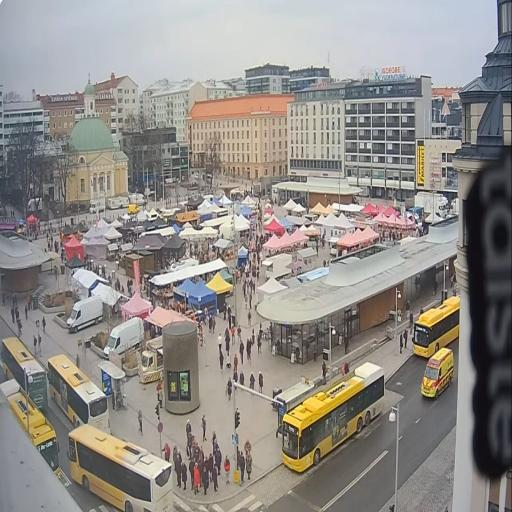Bus: (282, 363, 384, 472), (68, 425, 172, 511), (48, 355, 110, 433), (8, 389, 60, 476), (2, 337, 48, 412), (412, 296, 460, 358)
Delivery: (104, 317, 144, 359), (67, 296, 103, 332), (137, 336, 163, 383)
